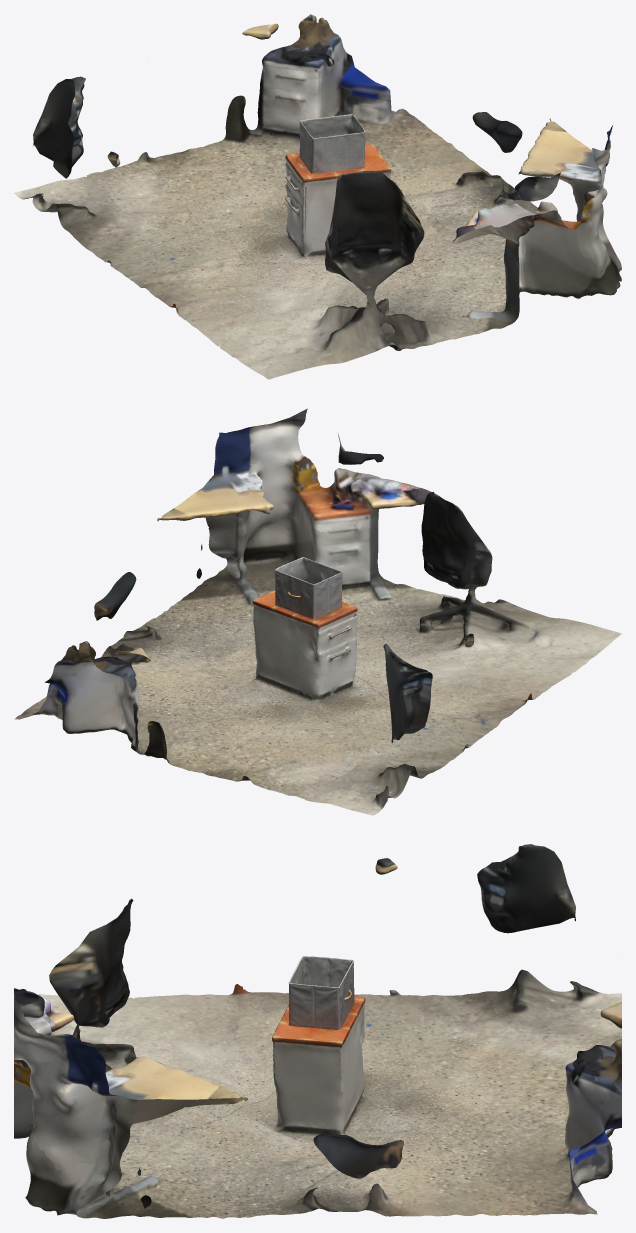
File: drawer_box.obj
3 views of the same model, one above another, from view 1: azimuth 30°, elevation 25°; view 2: azimuth 150°, elevation 25°; view 3: azimuth 270°, elevation 25° (orthographic). The views are drawn at different scales.
Parts seen in each view (by area): view 1: Object; view 2: Object; view 3: Object.
Boxes of the visible parts, x1,y1,x2,y2 form: Object: (14,14,621,379); Object: (14,408,621,815); Object: (14,844,621,1218).
Bounding box in the file's own units: 2.28 × 0.9188 × 2.66.
1 material, 1 textured.
